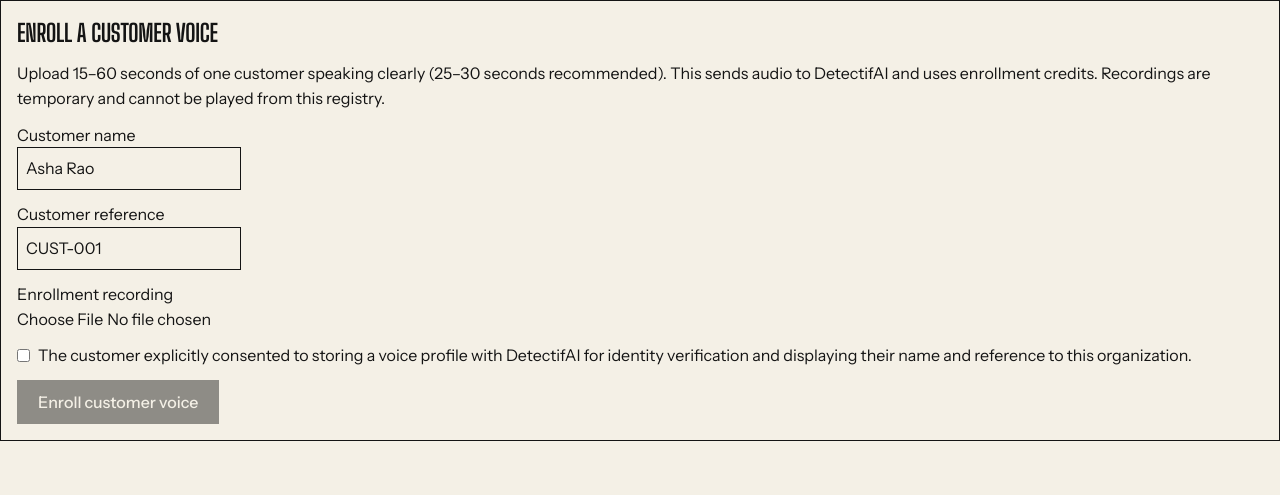
Test: requires consent and refreshes the real registry only after enrollment succeeds
The width and height of the screenshot is (1280, 495).
Earlier steps of the test are not shown.
expect the button "Enroll customer voice" is disabled: met, box [17,380,219,424]
Click the checkbox: click(24, 356) [17,343,30,368]
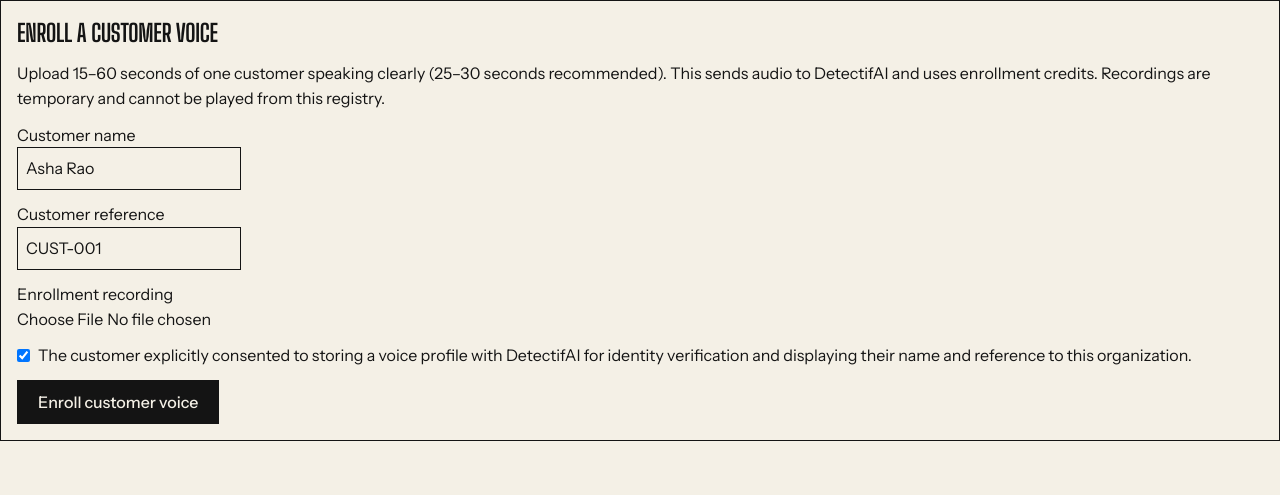
expect the button "Enroll customer voice" is enabled: met, box [17,380,219,424]
Submit the form named "Enroll customer voice"
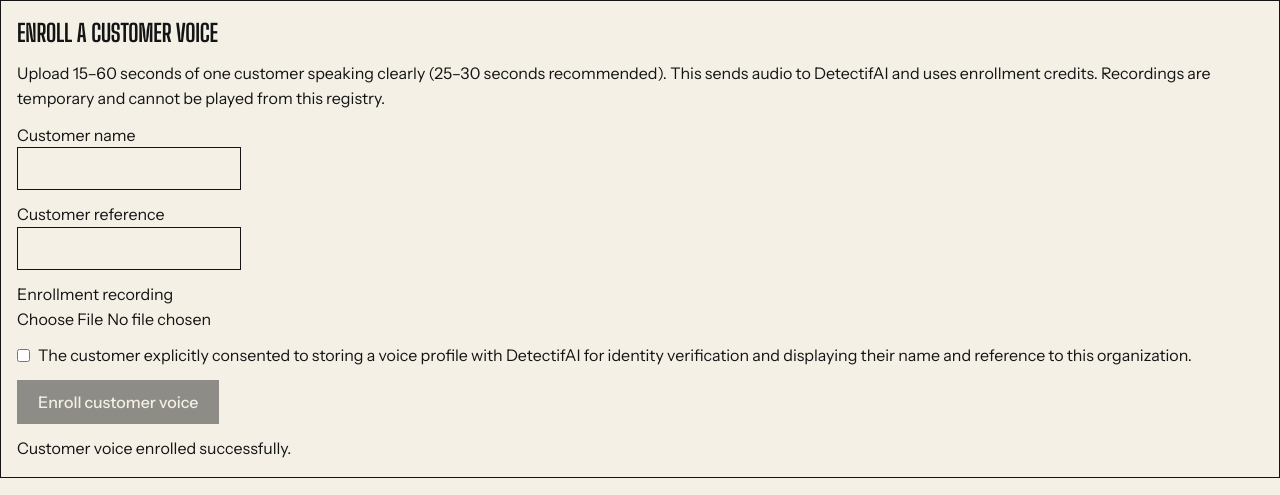
expect the text "Customer voice enrolled successfully." is shown: met, box [17,438,291,458]
